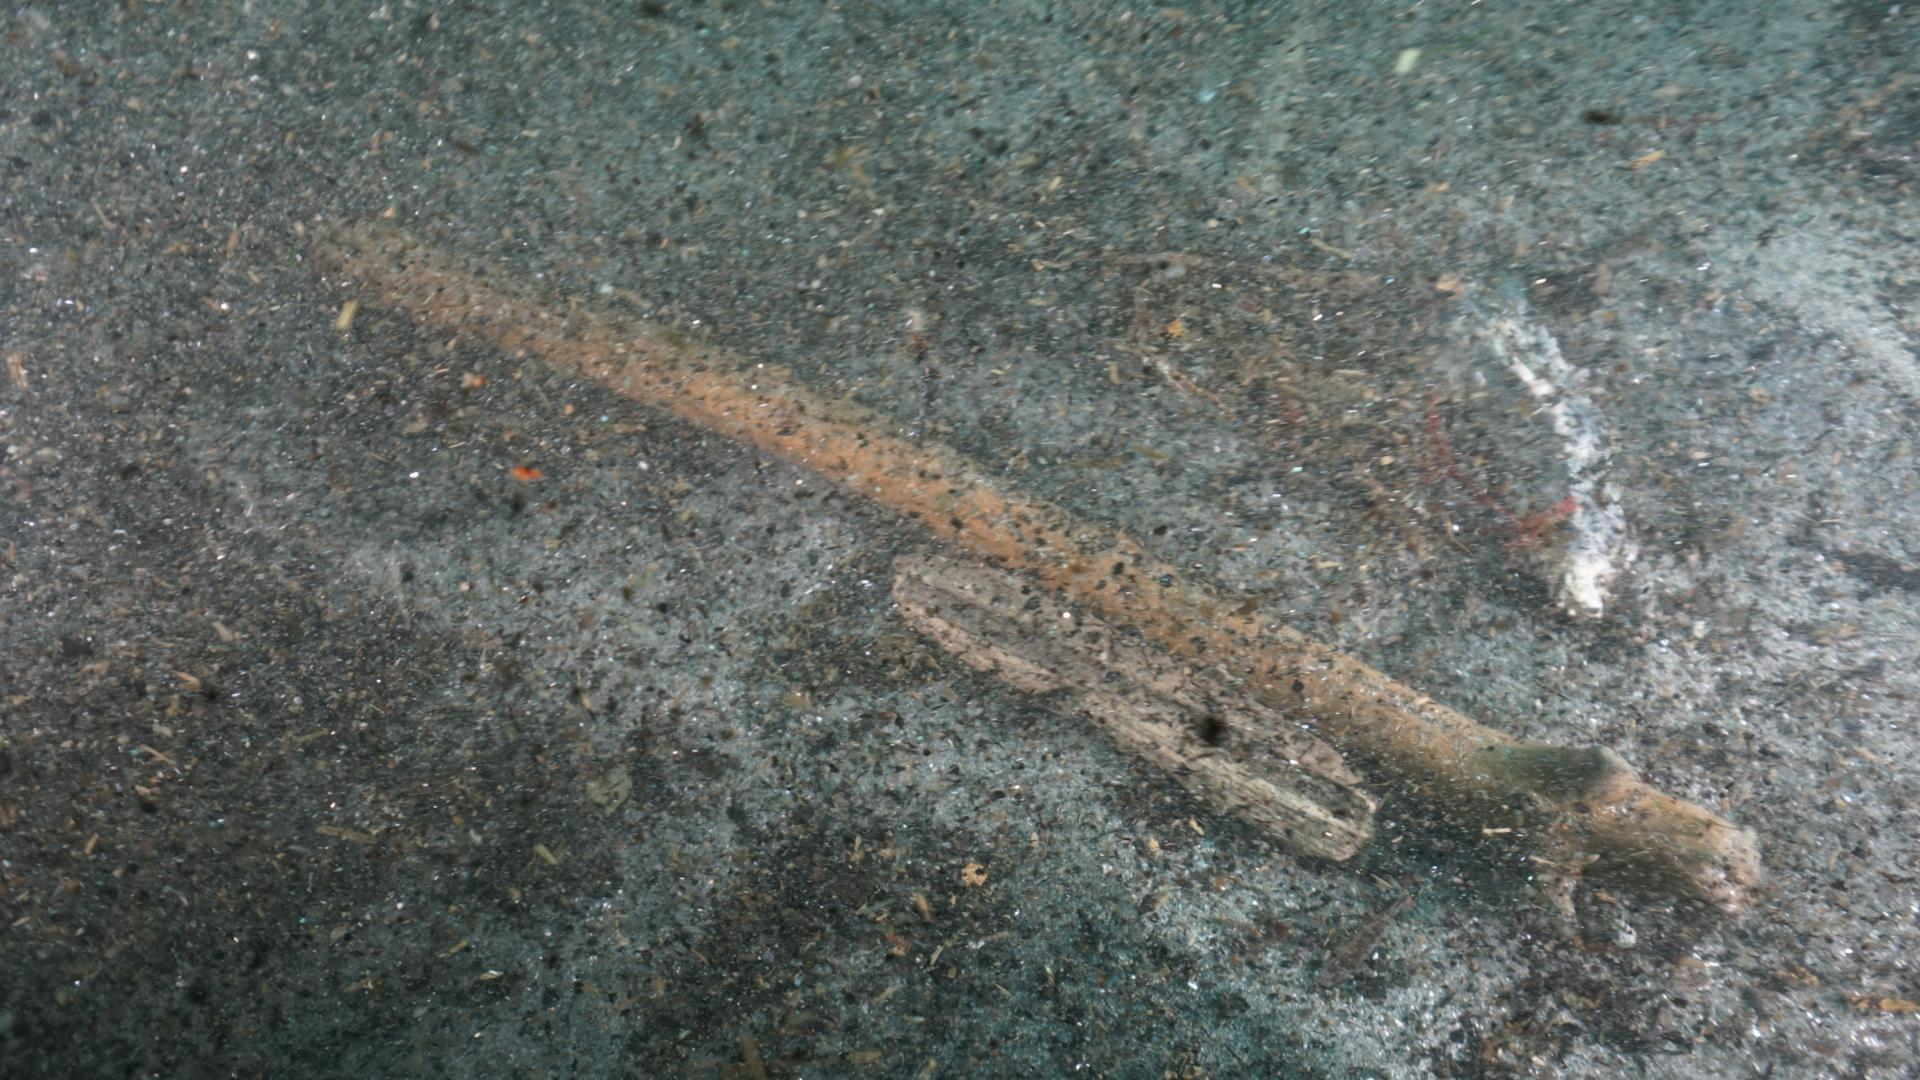wood: (301, 212, 1762, 949), (889, 541, 1374, 860)
